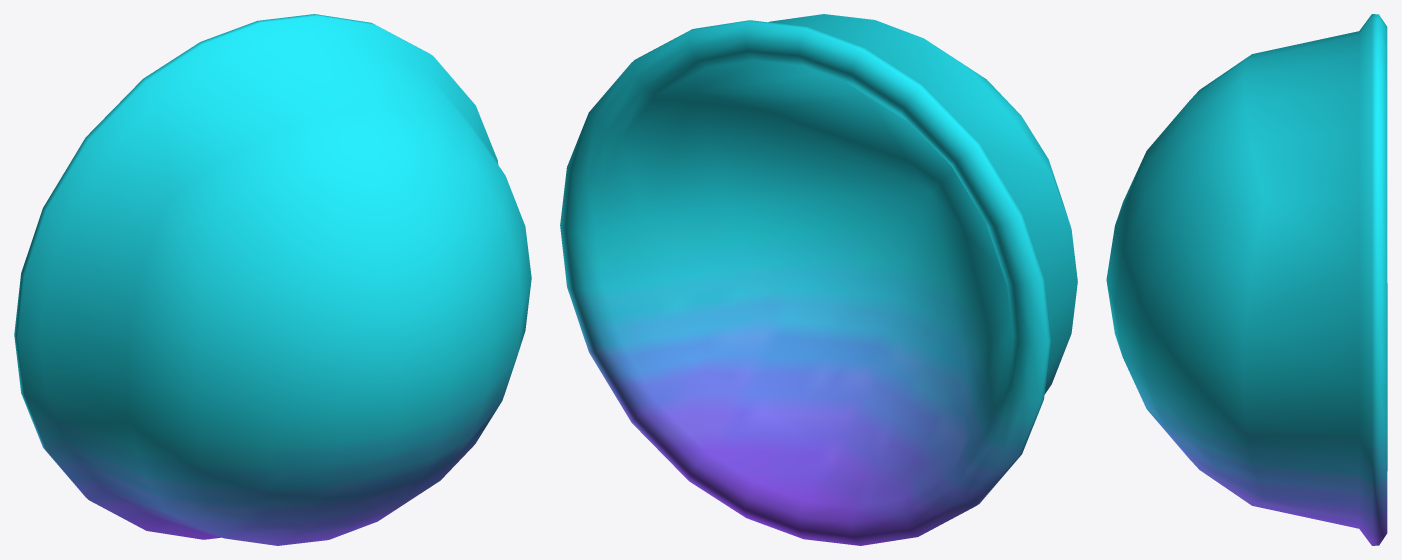
Rendered from Amongus02_Cut_011_0.FBX.
The picture shows the model from 3 angles, left to right: view 1: azimuth 30°, elevation 25°; view 2: azimuth 150°, elevation 25°; view 3: azimuth 270°, elevation 25°; orthographic projection. The views are drawn at different scales.
Parts seen in each view (by area): view 1: Amongus02_Cut_011_0; view 2: Amongus02_Cut_011_0; view 3: Amongus02_Cut_011_0.
Part boxes in pixels (x1,y1,x2,y2): Amongus02_Cut_011_0: (14, 14, 531, 545); Amongus02_Cut_011_0: (560, 14, 1077, 545); Amongus02_Cut_011_0: (1106, 14, 1387, 545).
Size of the model in its own units: 0.7584 by 0.4 by 0.7584.
